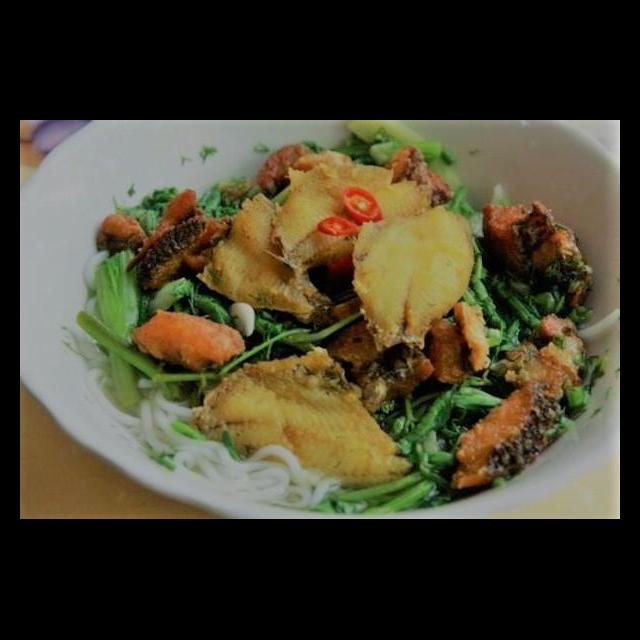bun: (125, 379, 346, 518)
bun ca: (38, 143, 609, 519)
ca: (186, 338, 424, 488), (261, 143, 445, 290), (188, 186, 339, 334), (345, 200, 478, 360), (445, 371, 572, 496), (474, 196, 599, 312), (121, 180, 234, 300), (326, 321, 438, 418), (126, 303, 253, 377), (424, 300, 498, 388)
